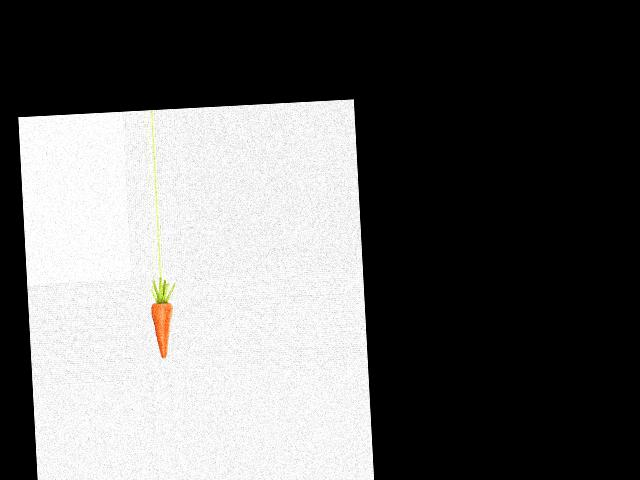carrot: (149, 297, 178, 360)
